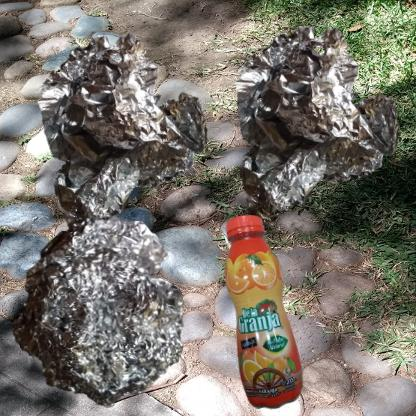aluminio: (10, 10, 248, 265), (213, 10, 416, 239), (10, 213, 186, 409)
botella: (213, 213, 317, 416)
